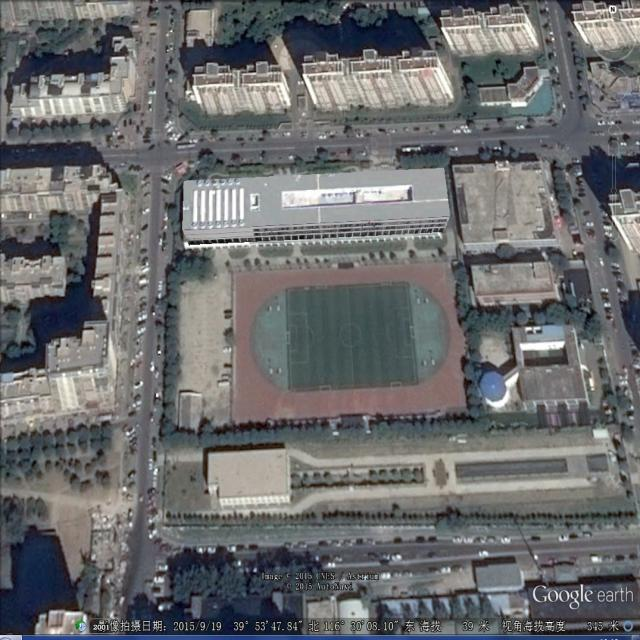playground: (235, 265, 468, 417)
